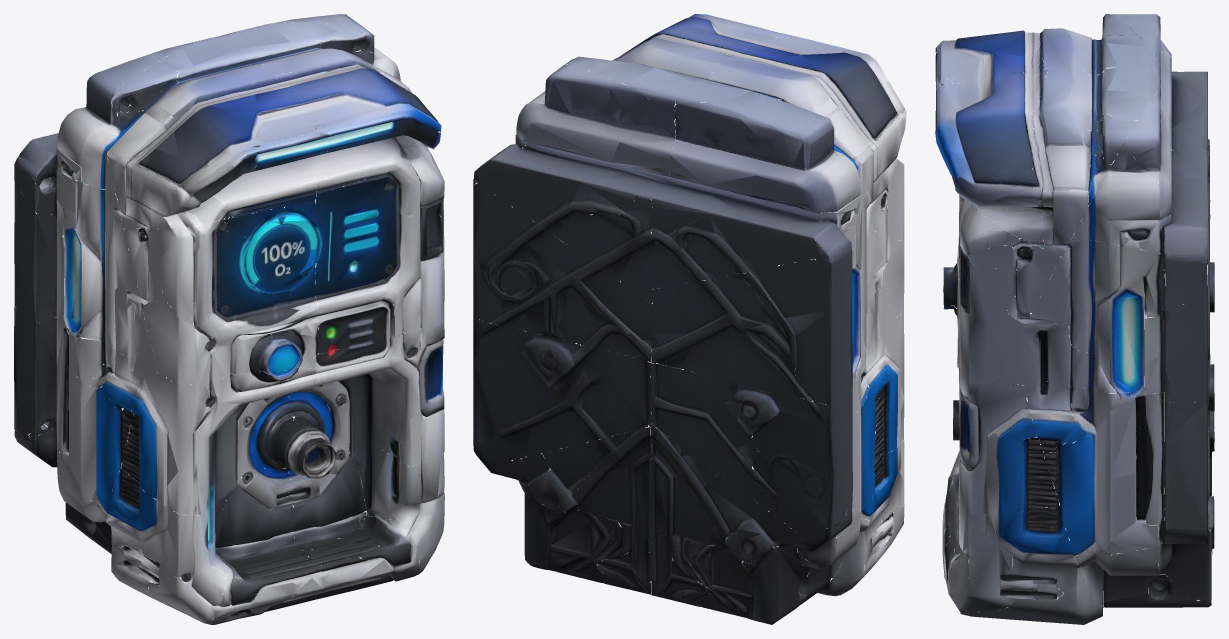
Rendered from CommsTerminal.glb.
3 views of the same model, side by side, from view 1: azimuth 30°, elevation 25°; view 2: azimuth 150°, elevation 25°; view 3: azimuth 270°, elevation 25° (orthographic).
Visible parts, largest first — view 1: tripo_node_21b05427-3038-4319-b241-b0c7e4e2c235; view 2: tripo_node_21b05427-3038-4319-b241-b0c7e4e2c235; view 3: tripo_node_21b05427-3038-4319-b241-b0c7e4e2c235.
Part boxes in pixels (left/top/right/bottom): tripo_node_21b05427-3038-4319-b241-b0c7e4e2c235: left=14, top=14, right=444, bottom=624; tripo_node_21b05427-3038-4319-b241-b0c7e4e2c235: left=473, top=14, right=906, bottom=624; tripo_node_21b05427-3038-4319-b241-b0c7e4e2c235: left=935, top=14, right=1214, bottom=624.
Size of the model in its own units: 0.7526 by 1 by 0.5056.
1 material, 1 textured.
